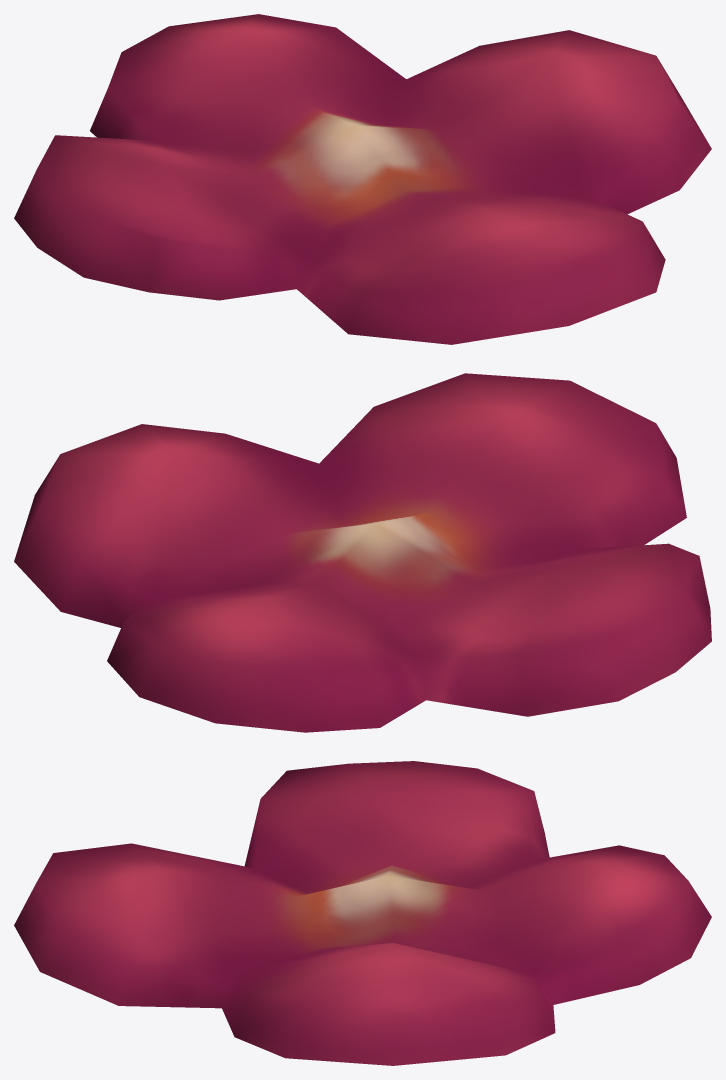
The model's file is S_FlowerMini_purple.fbx.
3 renders of one model, top to bottom at view 1: azimuth 30°, elevation 25°; view 2: azimuth 150°, elevation 25°; view 3: azimuth 270°, elevation 25°, orthographic. The views are drawn at different scales.
Parts seen in each view (by area): view 1: S_FlowerMini_purple; view 2: S_FlowerMini_purple; view 3: S_FlowerMini_purple.
Part boxes in pixels (<box>): S_FlowerMini_purple: <box>14,14,711,344</box>; S_FlowerMini_purple: <box>14,373,711,732</box>; S_FlowerMini_purple: <box>14,761,711,1065</box>.
Bounding box in the file's own units: 28.94 × 4.07 × 30.54.
